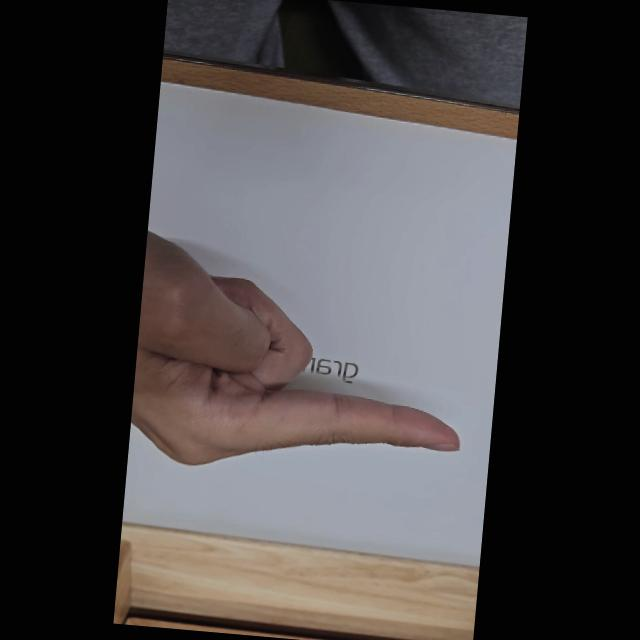finger: (253, 386, 462, 465), (256, 389, 459, 451)
